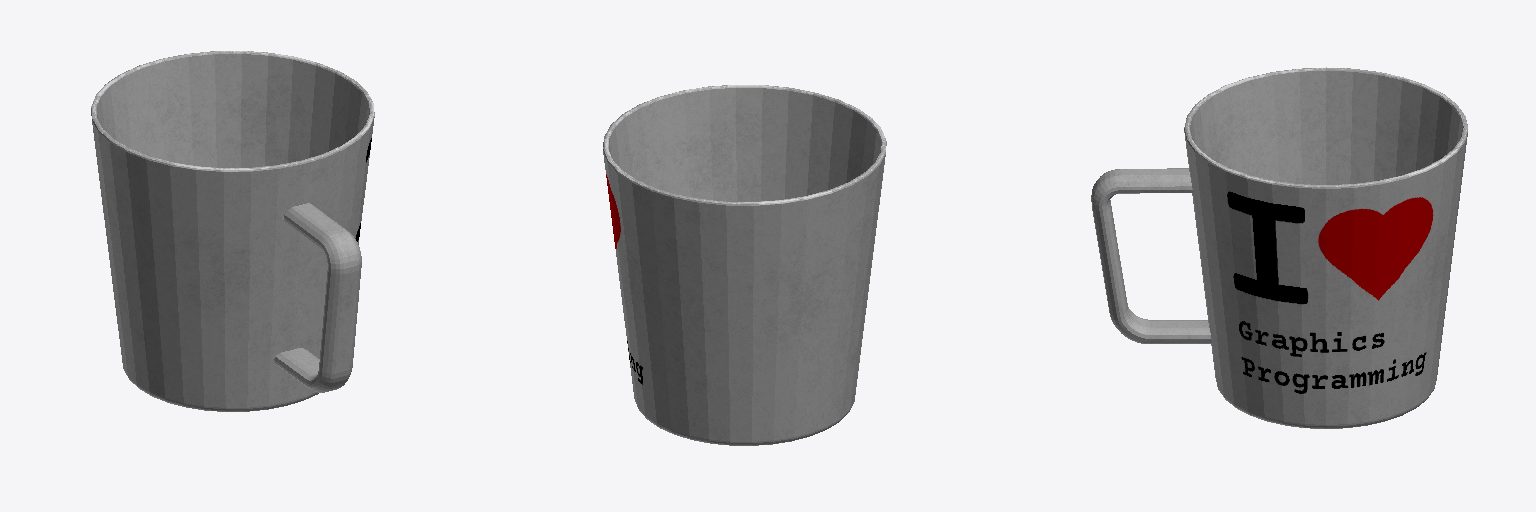
The picture shows the model from 3 angles: view 1: azimuth 30°, elevation 25°; view 2: azimuth 150°, elevation 25°; view 3: azimuth 270°, elevation 25°; orthographic projection.
Visible parts, largest first — view 1: Cup; view 2: Cup; view 3: Cup.
Boxes of the visible parts, box(x1,y1,x2,y2) form: Cup: box(91, 51, 374, 411); Cup: box(603, 85, 886, 445); Cup: box(1091, 67, 1467, 428).
Bounding box in the file's own units: 2 × 2 × 2.65.
Materials: 1 (1 with a texture image).